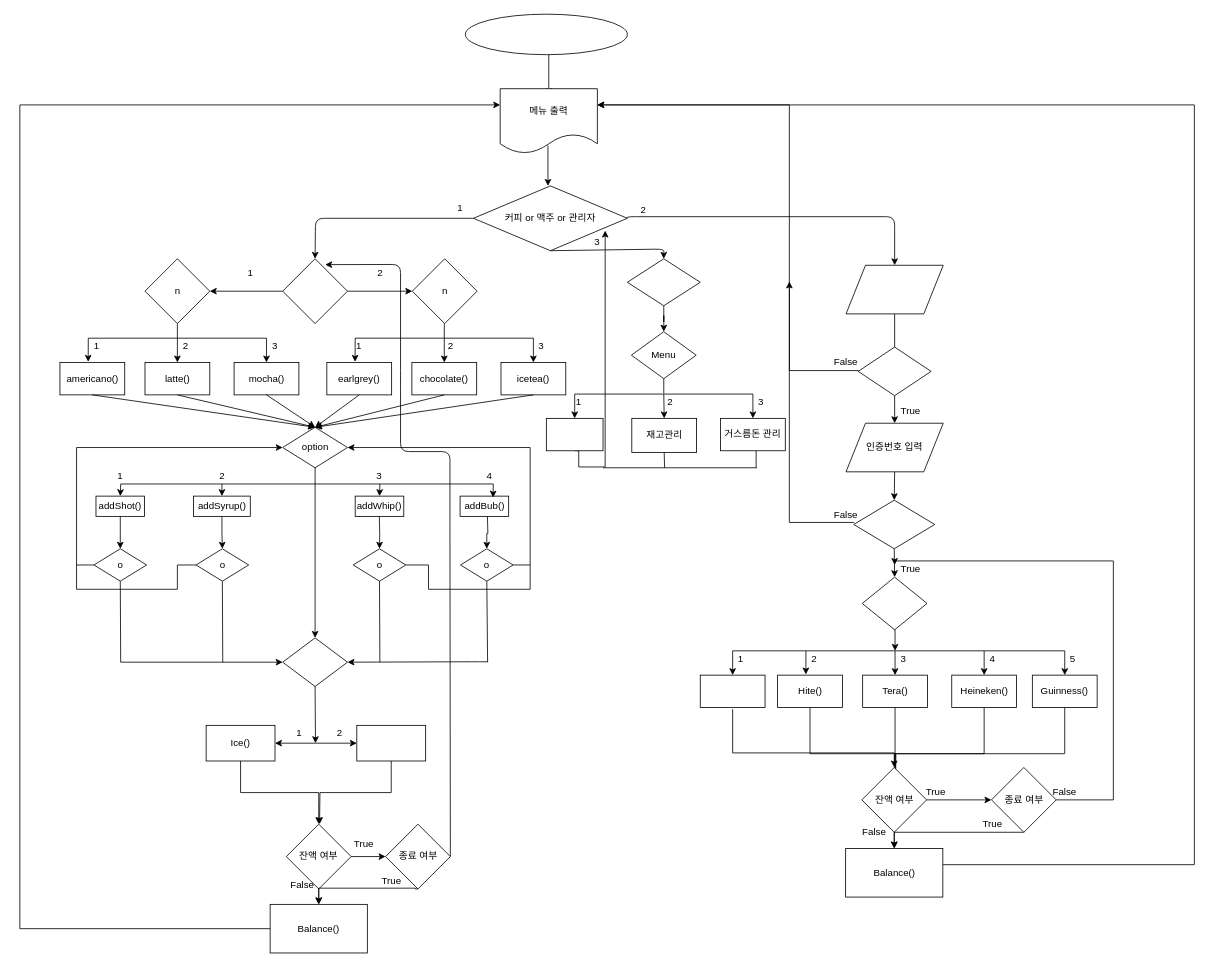
Image size: 1215x967. Some labels were removed from this diagram. Each missing label, with the centre of its shape:
caffein: point 314,291
Cass(): point 732,691
choice: point 894,603
NoIce(): point 391,743
tem: point 314,661
비밀번호 검사: point 663,282
순이익조회: point 574,434
인증번호 검사: point 894,524
자판기 구동: point 546,34
주민번호 검사: point 894,371
주민번호 입력 핸드폰번호 입력: point 894,289
